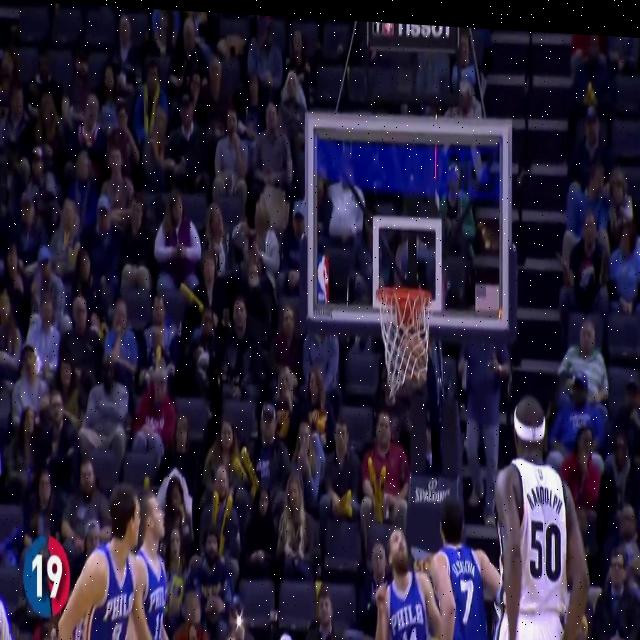basketball: (399, 333, 427, 393)
hoop: (375, 283, 434, 409), (375, 283, 434, 408)
